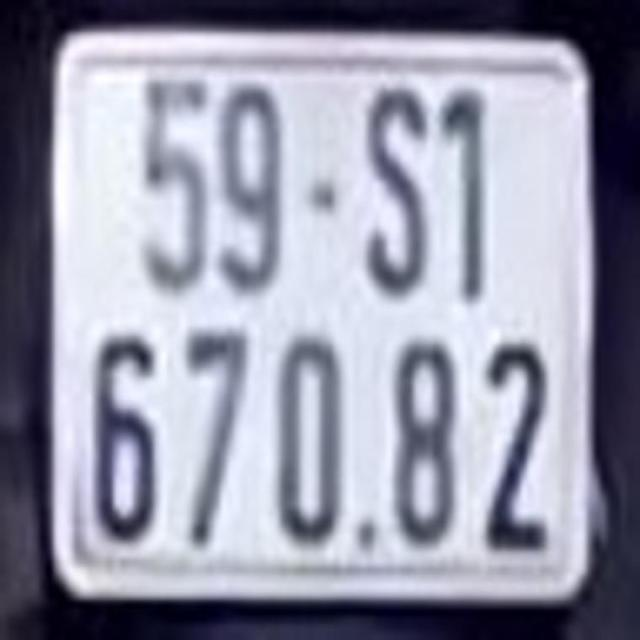0: (276, 331, 343, 544)
1: (438, 82, 498, 302)
2: (482, 335, 555, 552)
5: (141, 75, 210, 290)
6: (92, 331, 161, 542)
7: (182, 328, 249, 546)
8: (391, 333, 458, 546)
9: (219, 80, 283, 291)
S: (360, 81, 432, 296)
